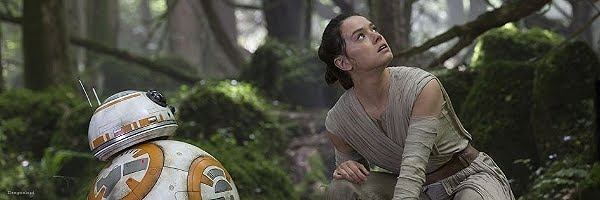bb8: (85, 89, 240, 200)
